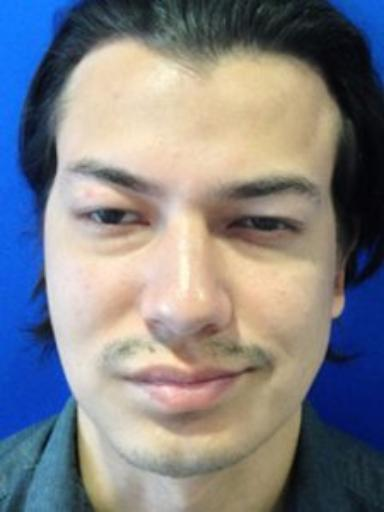left_eye: (221, 213, 303, 244)
left_lip_corner: (234, 355, 269, 388)
right_eye: (73, 204, 153, 235)
right_lip_corner: (109, 363, 138, 393)
